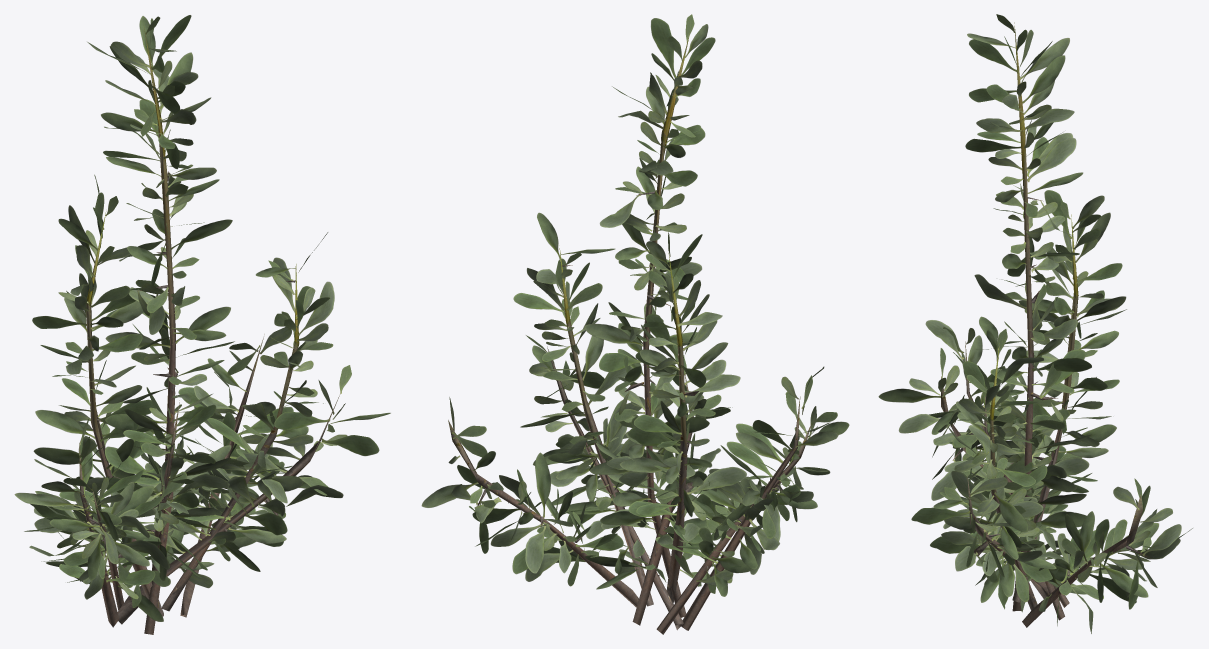
File: nama_othonna_e.glb
The picture shows the model from 3 angles, left to right: view 1: azimuth 30°, elevation 25°; view 2: azimuth 150°, elevation 25°; view 3: azimuth 270°, elevation 25°; orthographic projection. The views are drawn at different scales.
Parts seen in each view (by area): view 1: nama_othonna_e; view 2: nama_othonna_e; view 3: nama_othonna_e.
Part boxes in pixels (box(x1,y1,x2,y2)): nama_othonna_e: box(14, 15, 390, 634); nama_othonna_e: box(421, 14, 849, 634); nama_othonna_e: box(878, 14, 1192, 633).
Bounding box in the file's own units: 0.7762 × 1.33 × 0.6417.
Materials: 2 (2 with a texture image).
